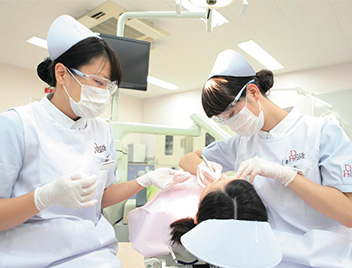mask: (69, 85, 111, 118), (227, 107, 263, 135)
